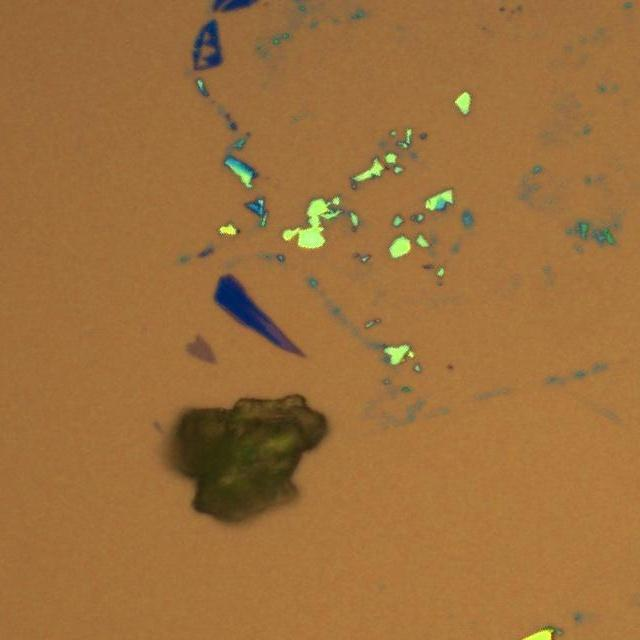monolayer-eWW4: (182, 330, 216, 364)
